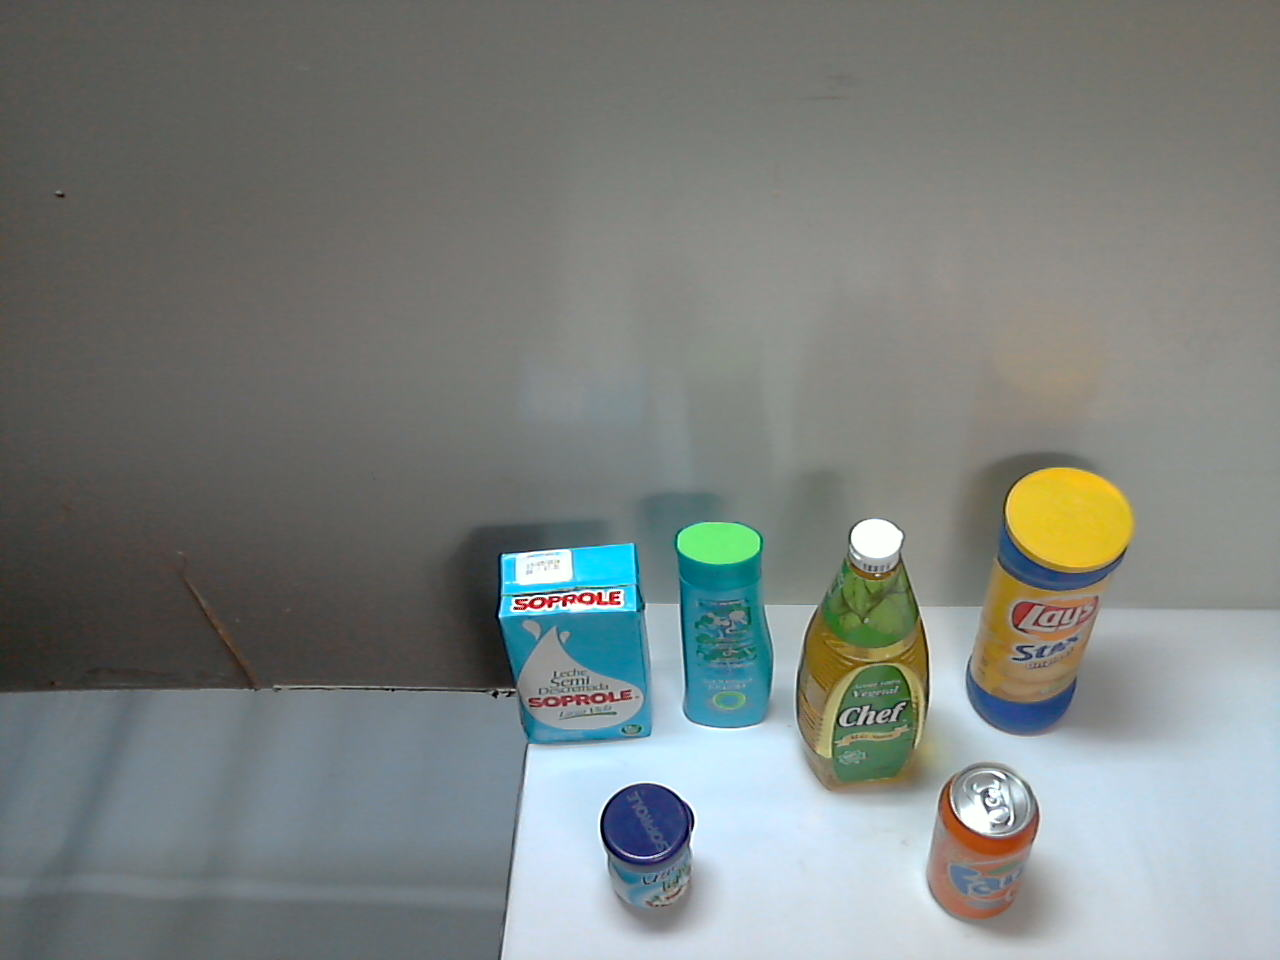cera: (563, 385, 724, 681)
cloro: (855, 462, 1027, 712)
coca: (1052, 526, 1169, 714)
crema: (994, 695, 1117, 847)
ketchup: (711, 572, 823, 728)
mantequilla: (749, 739, 904, 853)
